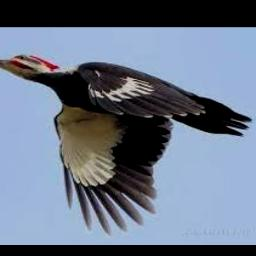Woodpecker: (0, 54, 252, 236)
